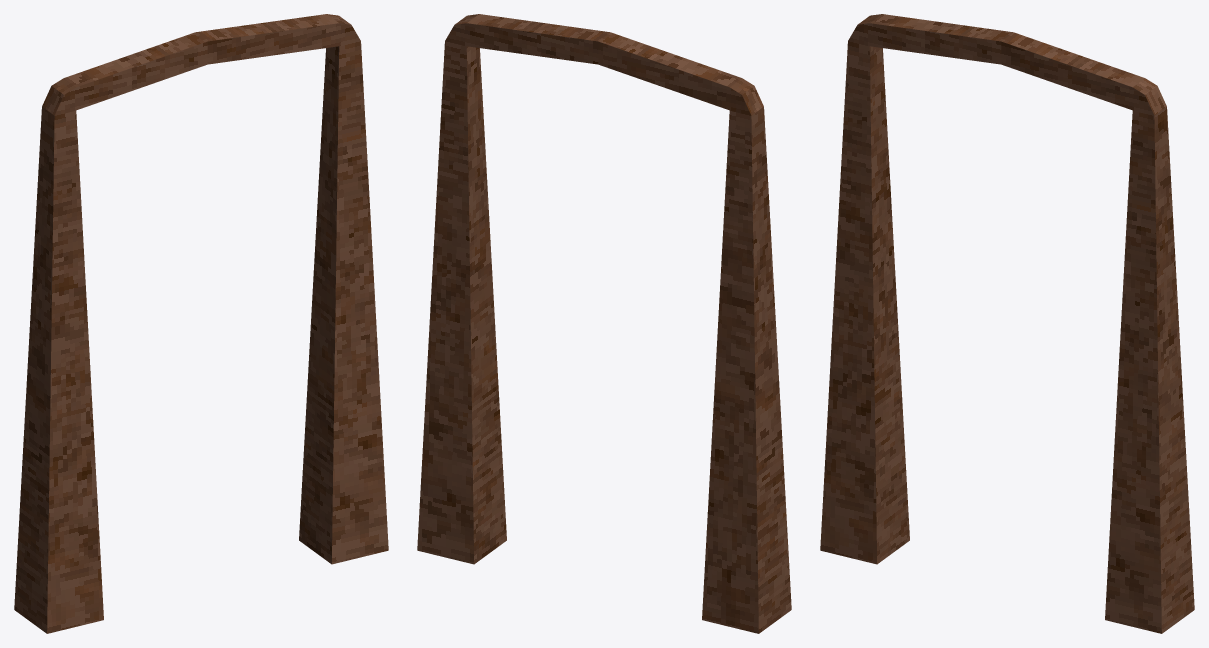
The model's file is gate.gltf.
The picture shows the model from 3 angles, left to right: view 1: azimuth 30°, elevation 25°; view 2: azimuth 150°, elevation 25°; view 3: azimuth 330°, elevation 25°; orthographic projection.
Visible parts, largest first — view 1: gate; view 2: gate; view 3: gate.
Part boxes in pixels (bbox=[...]): gate: bbox=[14, 14, 388, 633]; gate: bbox=[417, 14, 791, 633]; gate: bbox=[820, 14, 1194, 633].
Size of the model in its own units: 12 by 18.24 by 2.
1 material, 1 textured.
